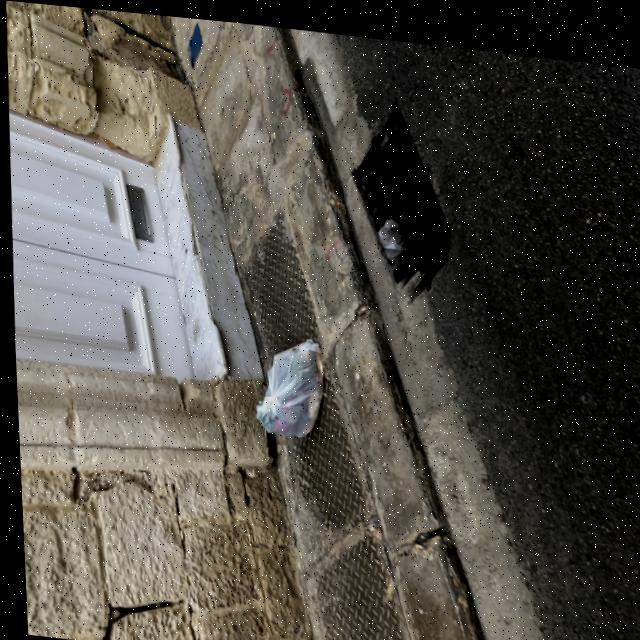Organic Waste -White Bag-: (251, 324, 325, 440)
Other: (372, 206, 407, 256)
